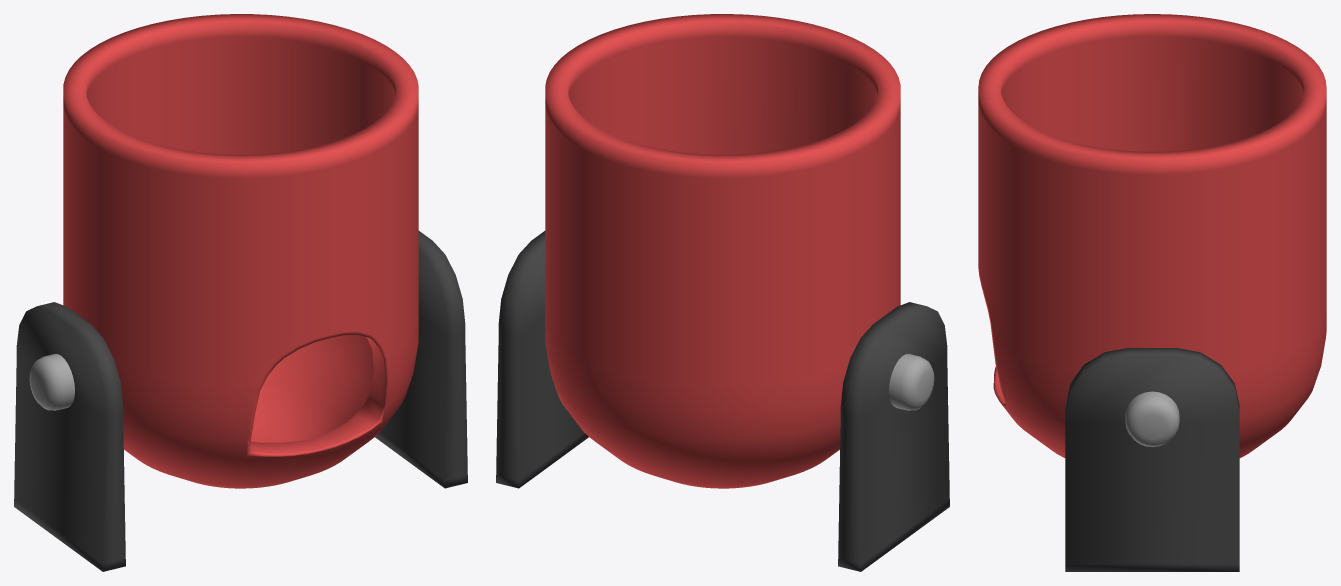
The model's file is Popcorn_Seasoning.fbx.
3 renders of one model, left to right at view 1: azimuth 30°, elevation 25°; view 2: azimuth 150°, elevation 25°; view 3: azimuth 270°, elevation 25°, orthographic. The views are drawn at different scales.
Visible parts, largest first — view 1: Body.002, Leg.002; view 2: Body.002, Leg.002; view 3: Body.002, Leg.002.
Part boxes in pixels (x1=…): Body.002: x1=63, y1=14, x2=418, y2=488; Leg.002: x1=14, y1=231, x2=467, y2=571; Body.002: x1=545, y1=14, x2=900, y2=488; Leg.002: x1=496, y1=231, x2=949, y2=571; Body.002: x1=978, y1=14, x2=1326, y2=457; Leg.002: x1=1065, y1=348, x2=1239, y2=571.
Size of the model in its own units: 1069 by 1023 by 813.
